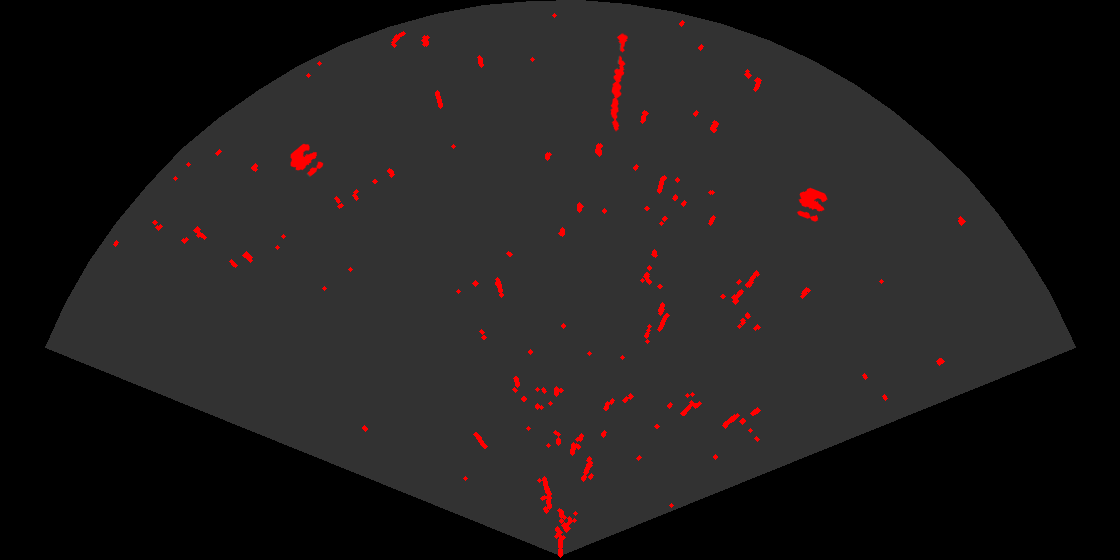ball: (289, 142, 325, 178), (795, 186, 829, 223)
chain: (609, 31, 629, 132)
